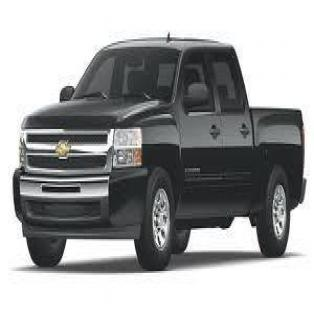Auto: (12, 35, 306, 273)
